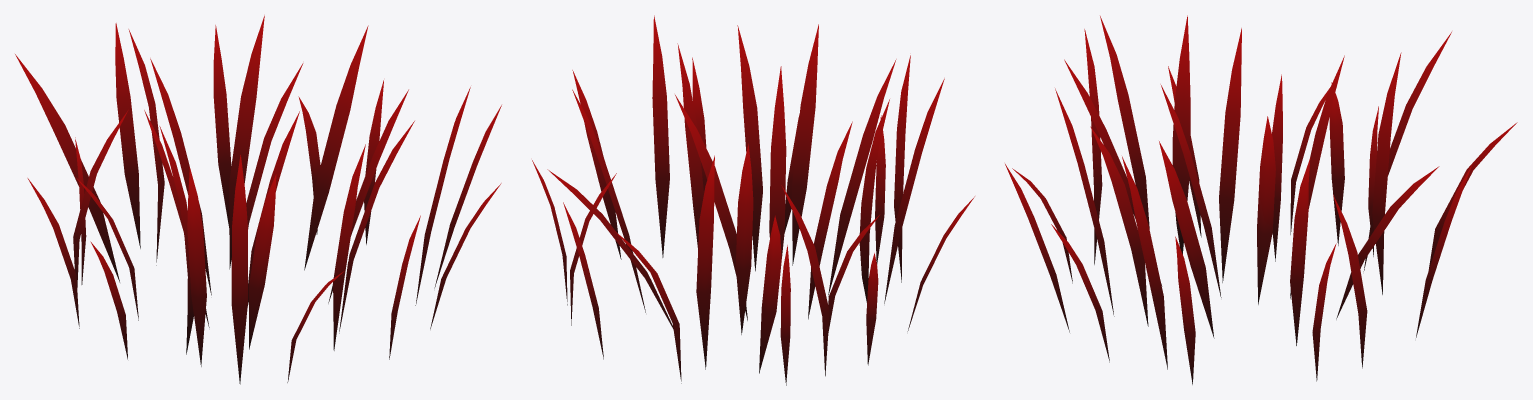
The model's file is Grass_LOD1.fbx.
The picture shows the model from 3 angles, left to right: view 1: azimuth 30°, elevation 25°; view 2: azimuth 150°, elevation 25°; view 3: azimuth 270°, elevation 25°; orthographic projection. The views are drawn at different scales.
Visible parts, largest first — view 1: Grass; view 2: Grass; view 3: Grass.
Boxes of the visible parts, bbox=[...] form: Grass: bbox=[15, 15, 501, 384]; Grass: bbox=[532, 15, 974, 385]; Grass: bbox=[1005, 15, 1517, 384].
Bounding box in the file's own units: 254 × 138 × 272.
